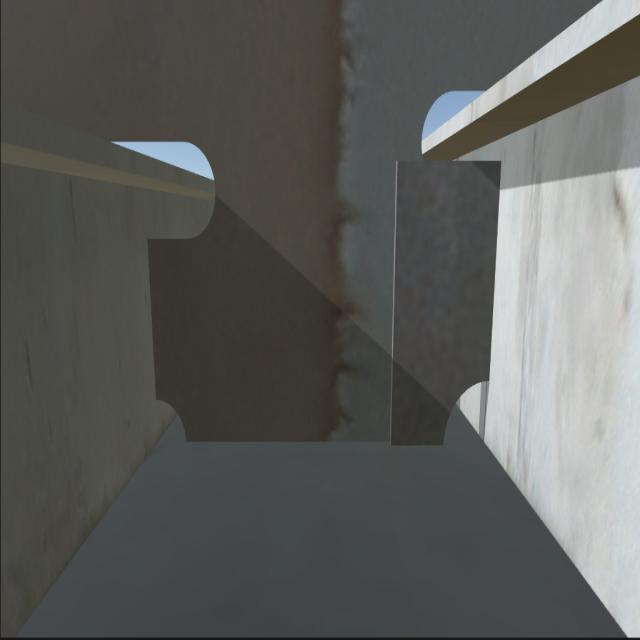fillet_hole: (441, 370, 490, 444), (152, 396, 186, 442)
fillet_yong_jeop_jang: (187, 434, 442, 446)
longi_yong_jeop_jang: (485, 165, 498, 378), (150, 246, 165, 392)
plate_CP01: (395, 154, 494, 438)
